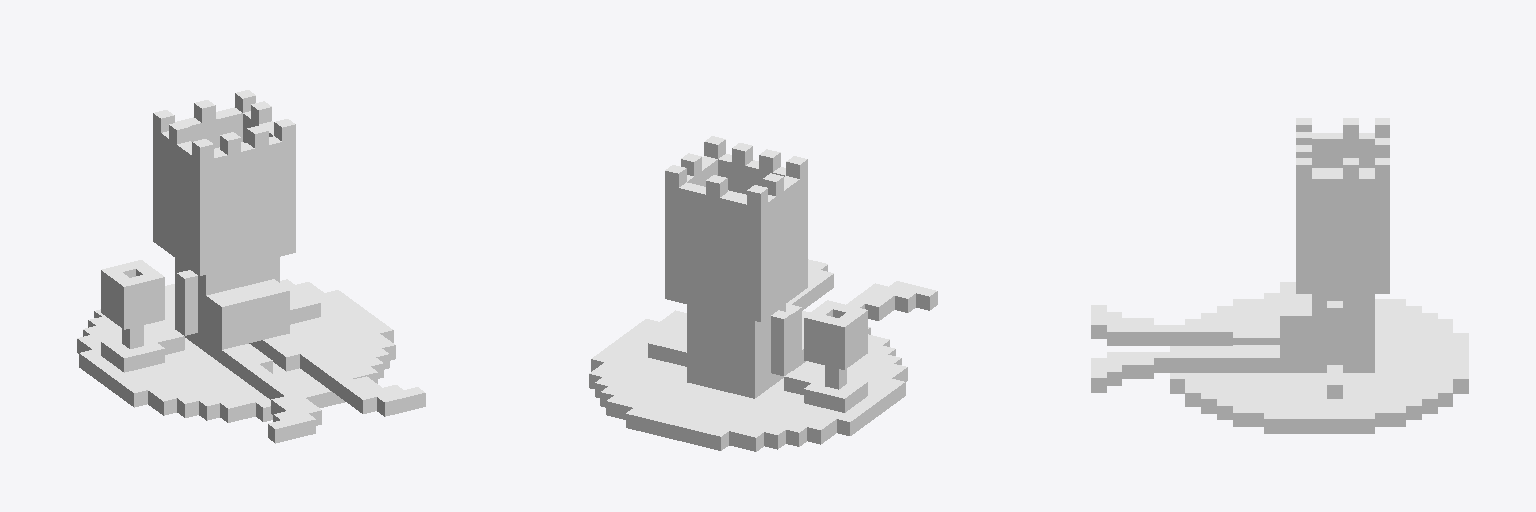
File: zhabiy.obj
3 renders of one model, left to right at view 1: azimuth 30°, elevation 25°; view 2: azimuth 150°, elevation 25°; view 3: azimuth 270°, elevation 25°, orthographic.
Parts seen in each view (by area): view 1: object 1; view 2: object 1; view 3: object 1.
Boxes of the visible parts, <box> form: object 1: <box>77,90,425,443</box>; object 1: <box>589,136,937,451</box>; object 1: <box>1091,118,1468,433</box>.
Bounding box in the file's own units: 1.9 × 1.6 × 2.4.